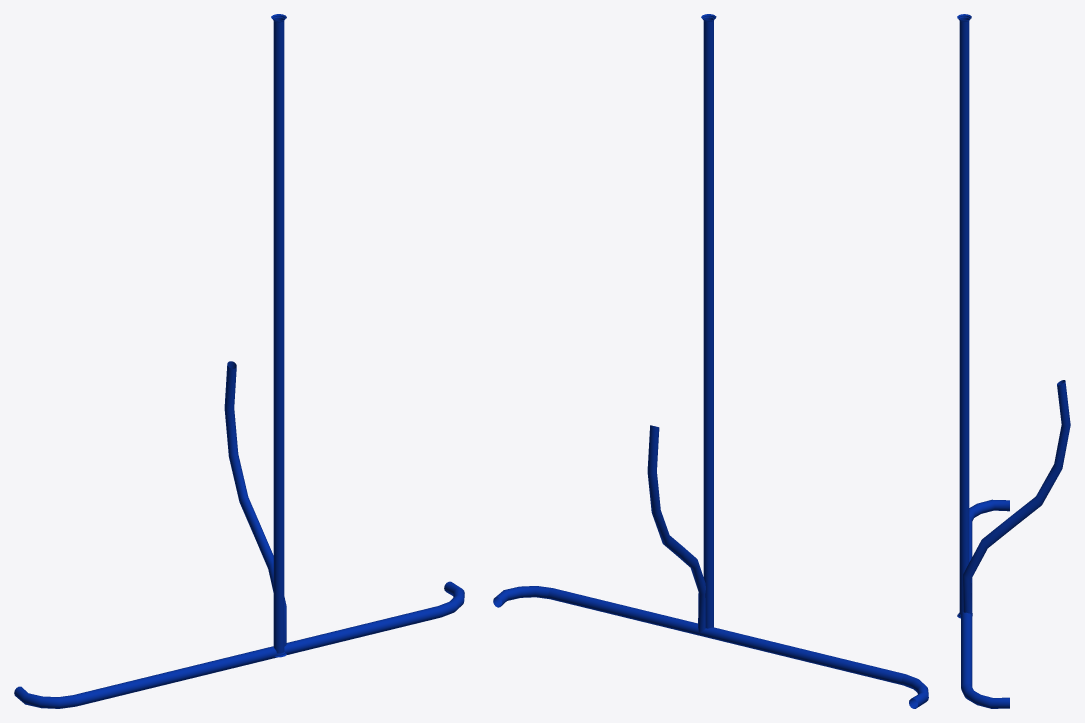
The model's file is asset_metro_rembarde.fbx.
3 views of the same model, side by side, from view 1: azimuth 30°, elevation 25°; view 2: azimuth 150°, elevation 25°; view 3: azimuth 270°, elevation 25° (orthographic). The views are drawn at different scales.
Parts seen in each view (by area): view 1: pCylinder4, FinishPipe7, FinishPipe8; view 2: pCylinder4, FinishPipe7, FinishPipe8; view 3: pCylinder4, FinishPipe8, FinishPipe7.
Part boxes in pixels (bbox=[...]): pCylinder4: bbox=[271, 14, 286, 657]; FinishPipe7: bbox=[14, 581, 464, 708]; FinishPipe8: bbox=[224, 361, 286, 646]; pCylinder4: bbox=[701, 14, 716, 628]; FinishPipe7: bbox=[493, 586, 928, 708]; FinishPipe8: bbox=[647, 425, 705, 632]; pCylinder4: bbox=[957, 14, 971, 618]; FinishPipe8: bbox=[963, 380, 1070, 616]; FinishPipe7: bbox=[961, 499, 1009, 708].
Bounding box in the file's own units: 2.48 × 3.43 × 0.5862.
